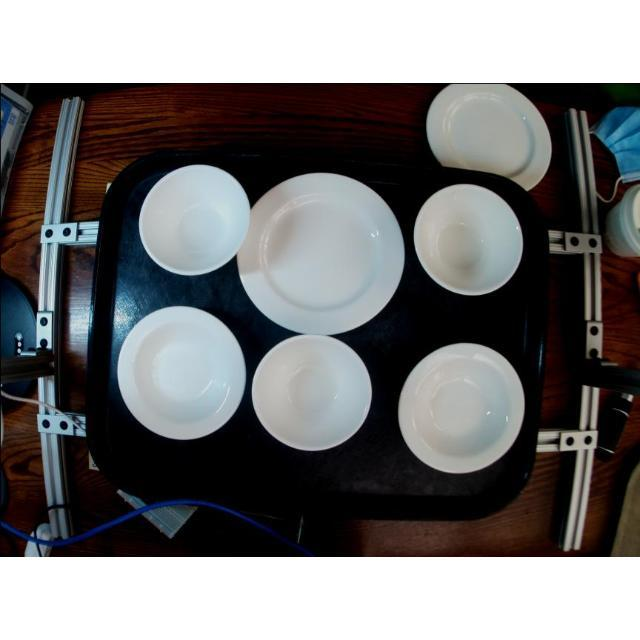plate: (232, 170, 410, 334), (114, 303, 250, 442), (394, 339, 528, 477), (248, 330, 374, 454), (133, 160, 253, 278), (412, 182, 530, 298)
